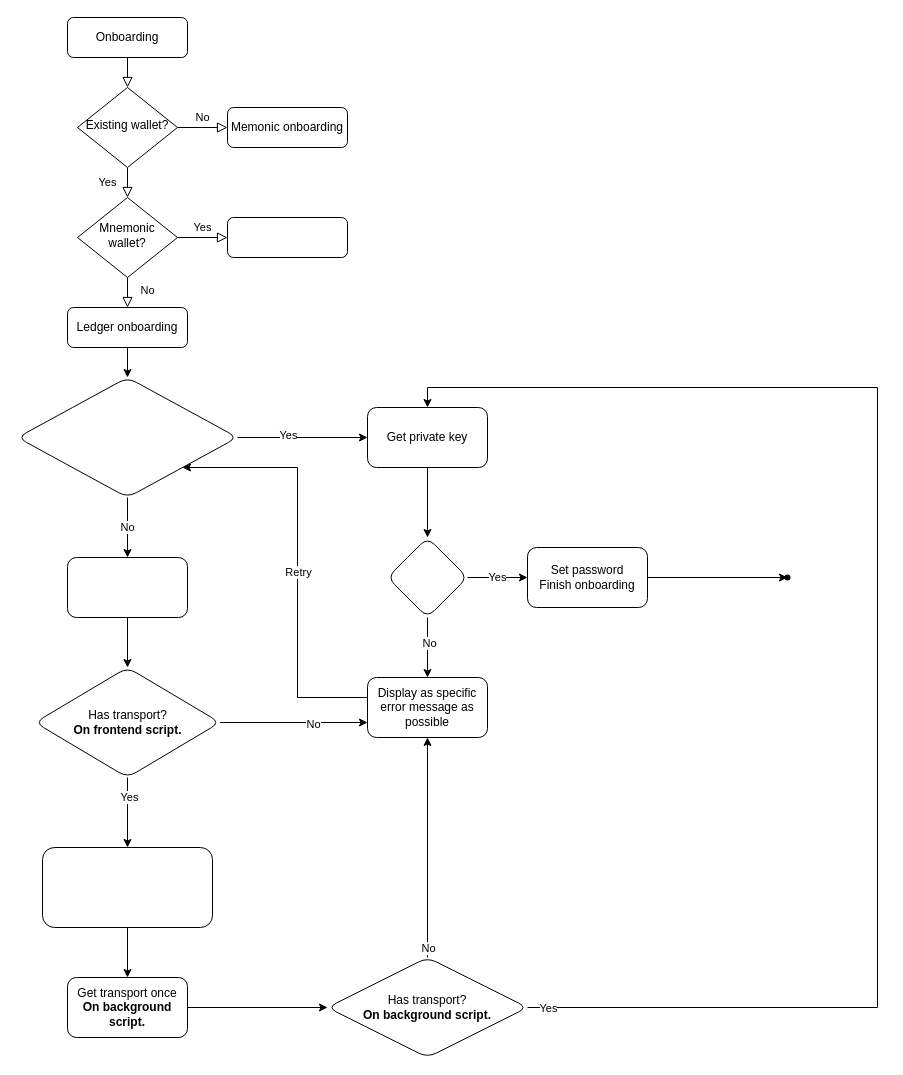
This 903x1075 diagram has some shape labels left out. Each missing label, with the centre of its shape:
"Close transport On frontend script." belongs at (x=127, y=887).
"Enter mnemonic onboarding" belongs at (x=287, y=237).
"Get transports once. Has transport? On background script." belongs at (x=127, y=437).
"Pop Device Selection On frontend script" belongs at (x=127, y=587).
"Success?" belongs at (x=427, y=577).
